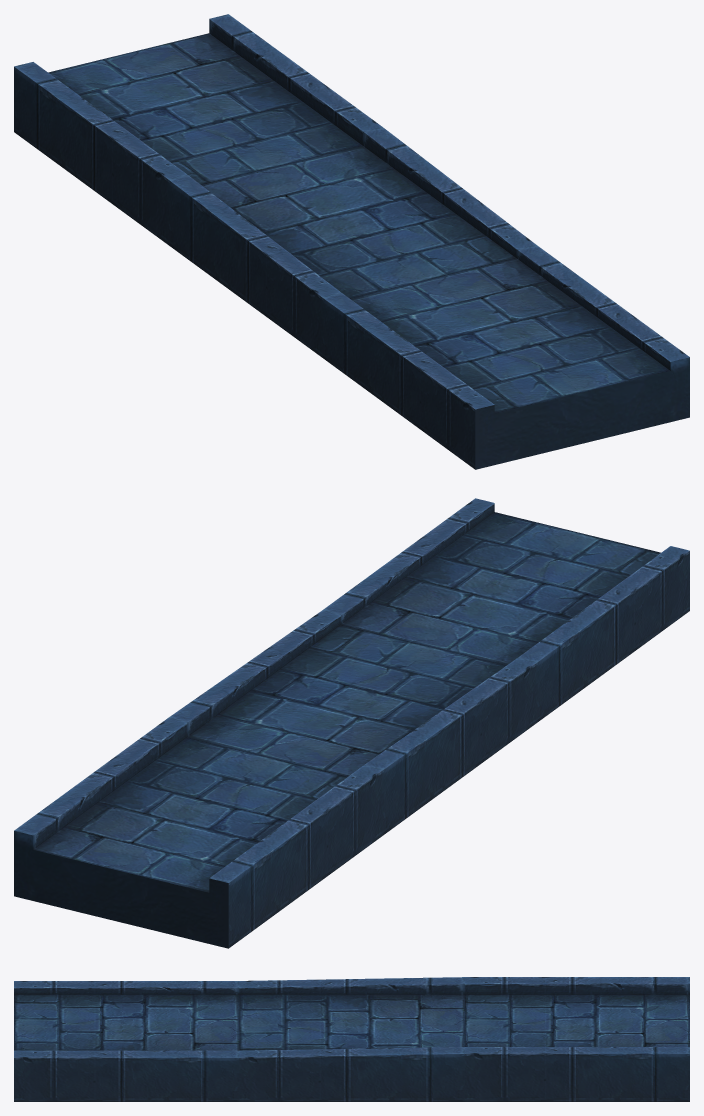
File: qiao01.FBX
The picture shows the model from 3 angles, top to bottom: view 1: azimuth 30°, elevation 25°; view 2: azimuth 150°, elevation 25°; view 3: azimuth 270°, elevation 25°; orthographic projection. The views are drawn at different scales.
Visible parts, largest first — view 1: qiao01; view 2: qiao01; view 3: qiao01.
Part boxes in pixels (left/top/right/bottom): qiao01: left=14, top=14, right=689, bottom=469; qiao01: left=14, top=498, right=689, bottom=948; qiao01: left=14, top=977, right=689, bottom=1101.
Size of the model in its own units: 434 by 127 by 1616.
